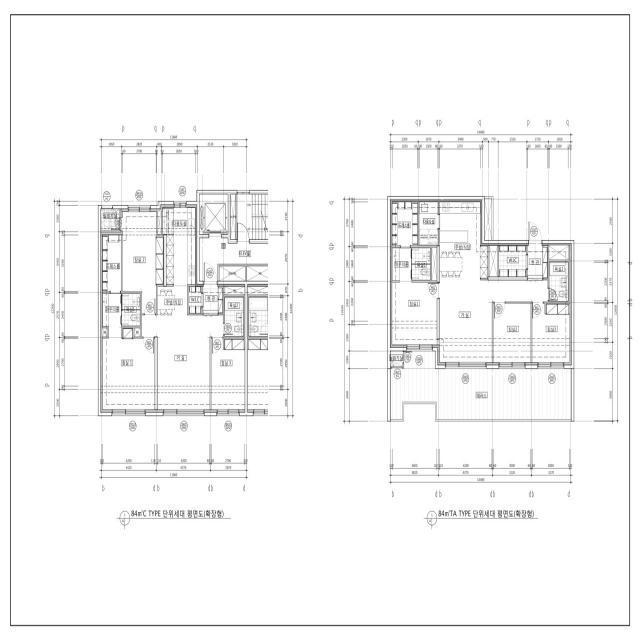space_bedroom: (101, 328, 155, 412), (121, 209, 164, 313), (390, 283, 437, 347), (211, 338, 245, 412), (532, 303, 572, 365), (493, 304, 530, 365)
space_dressroom: (391, 200, 418, 246), (101, 232, 121, 291), (101, 293, 121, 339), (390, 248, 411, 280)
space_elevator: (199, 194, 228, 234)
space_elevator_hall: (199, 234, 268, 281)
space_front: (527, 244, 548, 280), (203, 285, 223, 313)
space_kitchen: (440, 200, 488, 281), (157, 234, 197, 315)
space_living_room: (438, 280, 548, 365), (142, 315, 223, 412)
space_multipurpose_space: (161, 205, 197, 234), (419, 201, 437, 246)
space_other: (499, 244, 526, 276), (219, 266, 245, 281), (189, 285, 202, 314), (484, 198, 492, 240), (549, 244, 569, 260), (247, 266, 268, 281), (489, 244, 497, 277), (231, 194, 236, 239), (224, 285, 245, 295), (434, 248, 439, 281), (157, 209, 161, 234), (101, 328, 107, 337), (134, 328, 140, 337)
space_outdoor_room: (101, 209, 119, 230), (390, 351, 402, 367)
space_staircase: (237, 194, 268, 240)
space_toilet: (224, 297, 244, 337), (550, 263, 569, 302), (411, 248, 430, 280), (122, 310, 140, 326), (122, 294, 140, 309)
